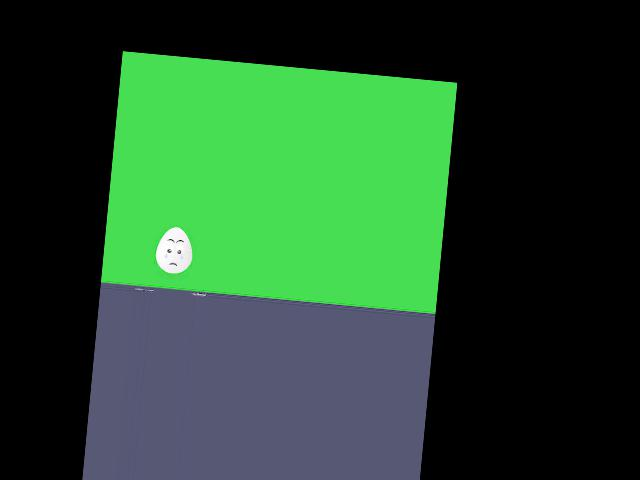egg: (154, 225, 194, 275)
